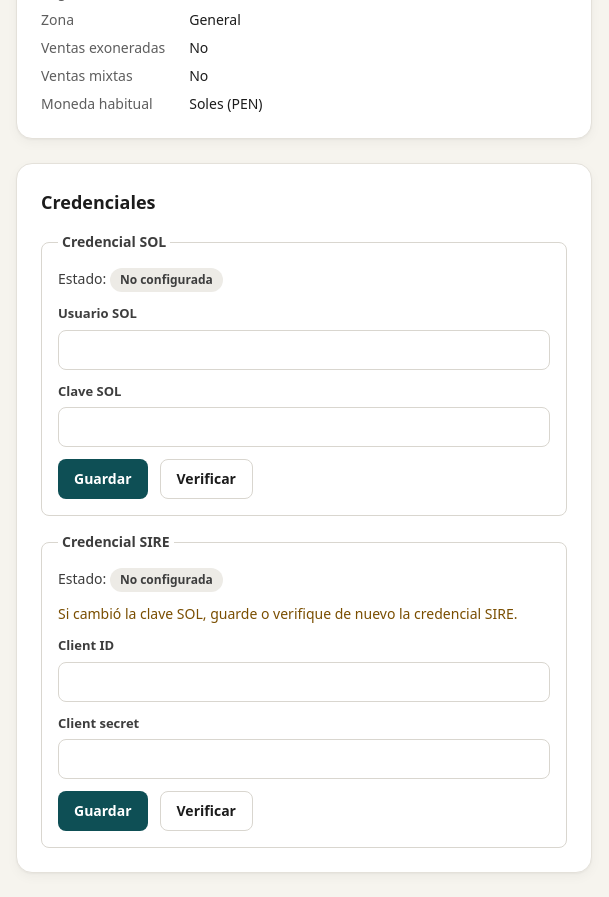
it: /clientes/:id · credenciales (007b) › guardar (D4, CA-4) › SIRE: PUT {clientId, clientSecret}; vacía el formulario y no deja el secreto
(page scrolled)
Type "CLIENT-ID-CANARIO-5b2d" into the field labelled "Client ID" at (304, 682), box [58,662,550,702]
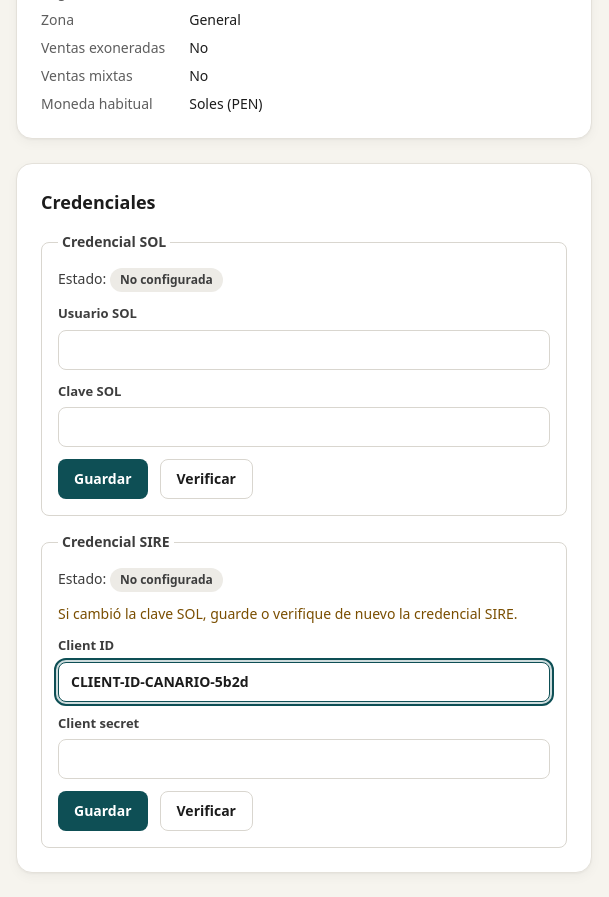
Type "SECRETO-SIRE-CANARIO-3d8e" into the password field labelled "Client secret" at (304, 759), box [58,739,550,779]
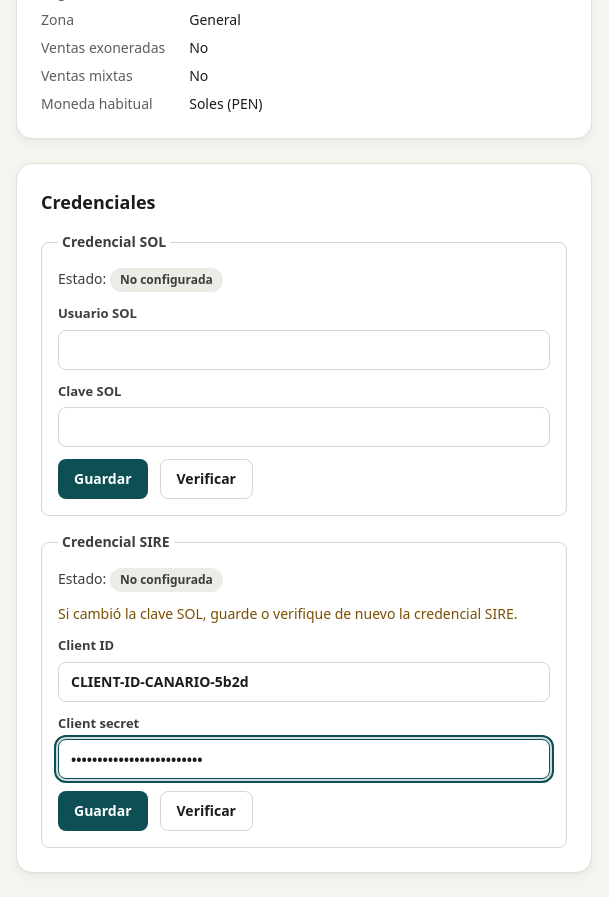
Click the button "Guardar" below "Client secret" at (103, 811), box [58,791,148,831]
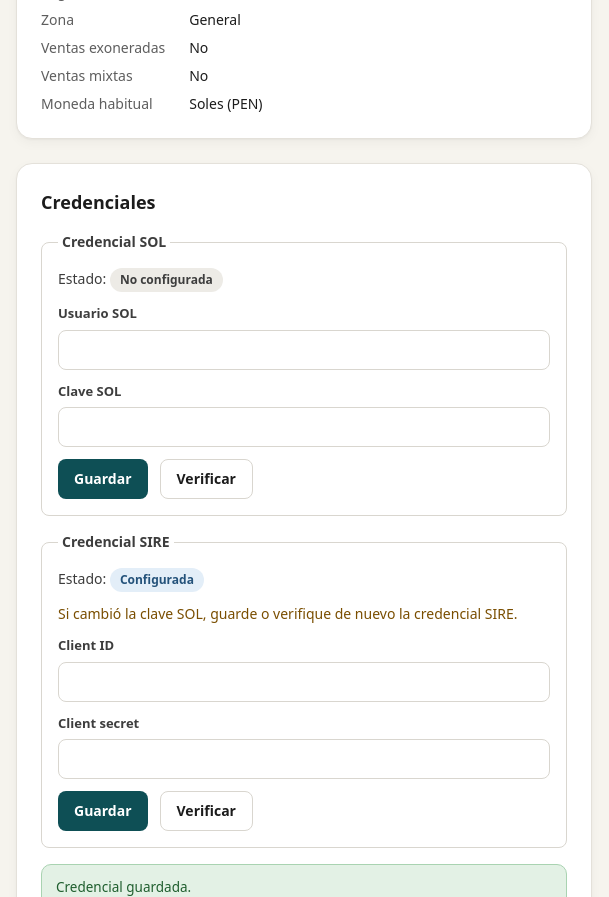
Expected: the text "Credencial guardada." is shown, [56,877,191,896]
